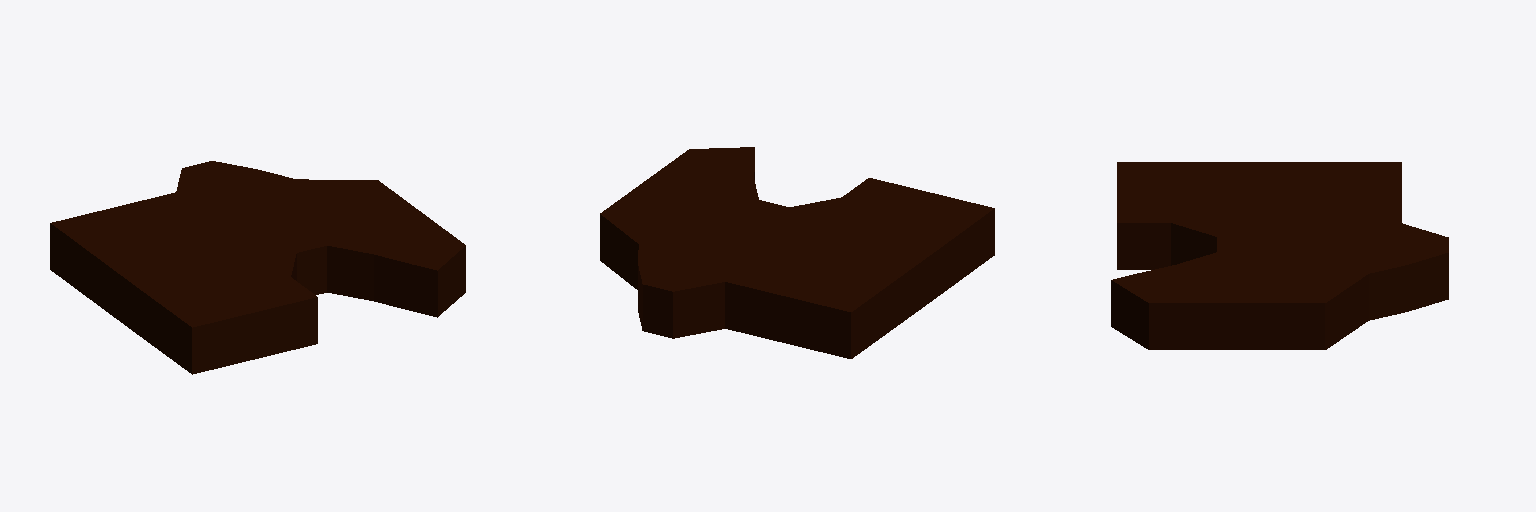
The model's file is yuka2.obj.
3 renders of one model, left to right at view 1: azimuth 30°, elevation 25°; view 2: azimuth 150°, elevation 25°; view 3: azimuth 270°, elevation 25°, orthographic.
Parts seen in each view (by area): view 1: Cube.006_Cube.034; view 2: Cube.006_Cube.034; view 3: Cube.006_Cube.034.
Boxes of the visible parts, x1,y1,x2,y2 form: Cube.006_Cube.034: [50, 161, 465, 374]; Cube.006_Cube.034: [600, 147, 994, 358]; Cube.006_Cube.034: [1111, 162, 1448, 349].
Bounding box in the file's own units: 116 × 17.92 × 117.